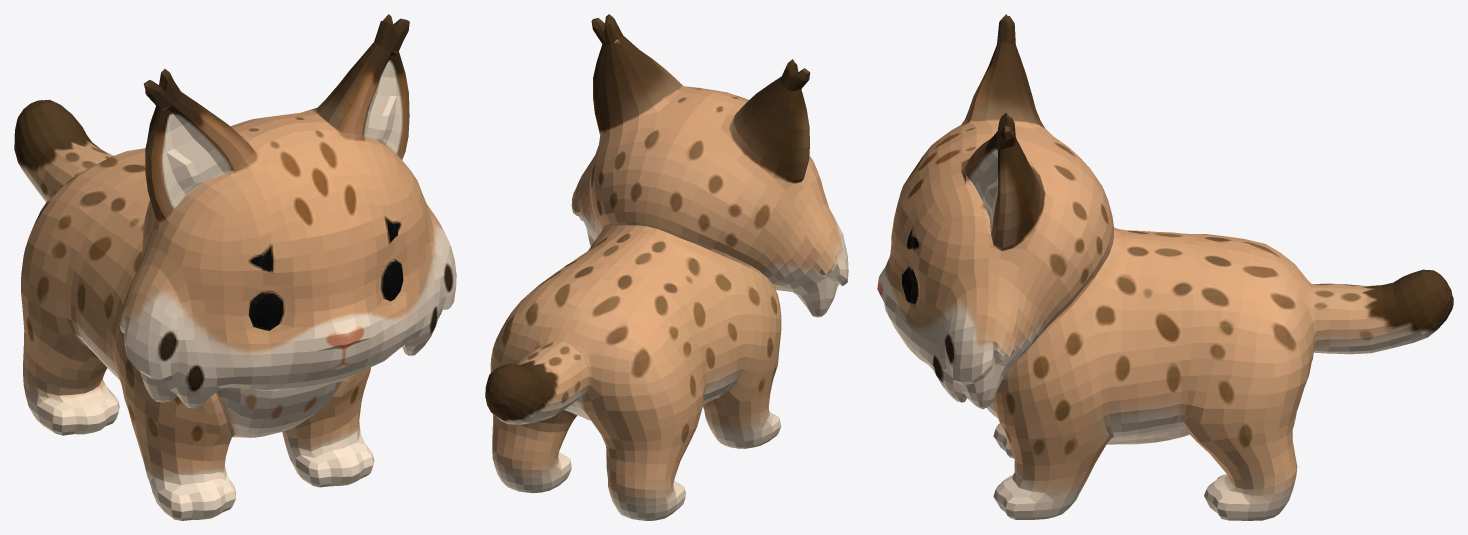
The model's file is cat.glb.
3 renders of one model, left to right at view 1: azimuth 30°, elevation 25°; view 2: azimuth 150°, elevation 25°; view 3: azimuth 270°, elevation 25°, orthographic. The views are drawn at different scales.
Visible parts, largest first — view 1: Cat; view 2: Cat; view 3: Cat.
Boxes of the visible parts, x1,y1,x2,y2 form: Cat: [14, 14, 456, 520]; Cat: [485, 14, 848, 520]; Cat: [877, 14, 1453, 520].
Bounding box in the file's own units: 1.13 × 1.51 × 1.91.
Materials: 1 (1 with a texture image).
